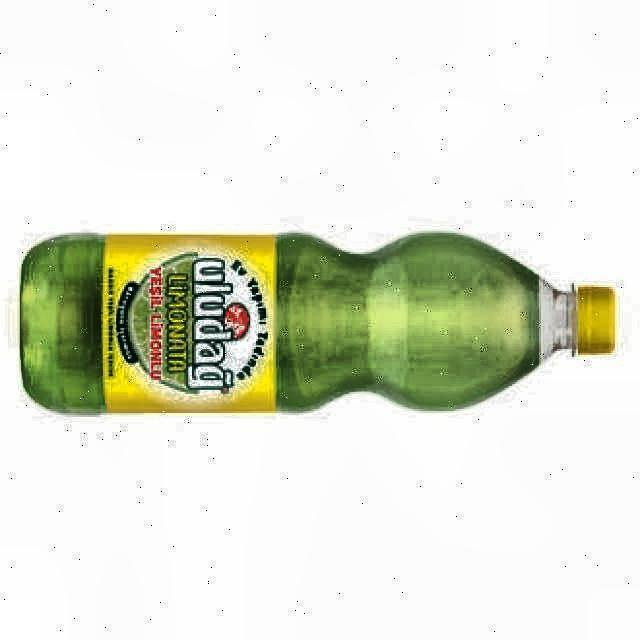plastic: (20, 233, 616, 412)
